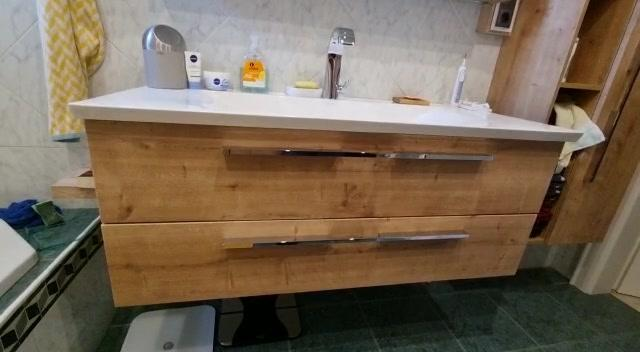cabinet_door: (89, 134, 554, 215), (98, 217, 530, 283)
handle: (218, 142, 498, 170), (218, 229, 475, 257)
